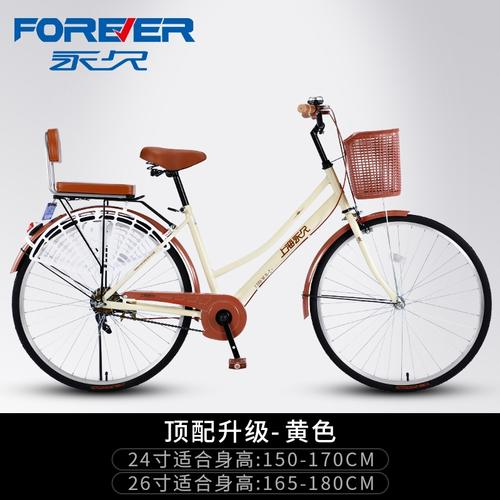单车: (13, 85, 499, 409)
